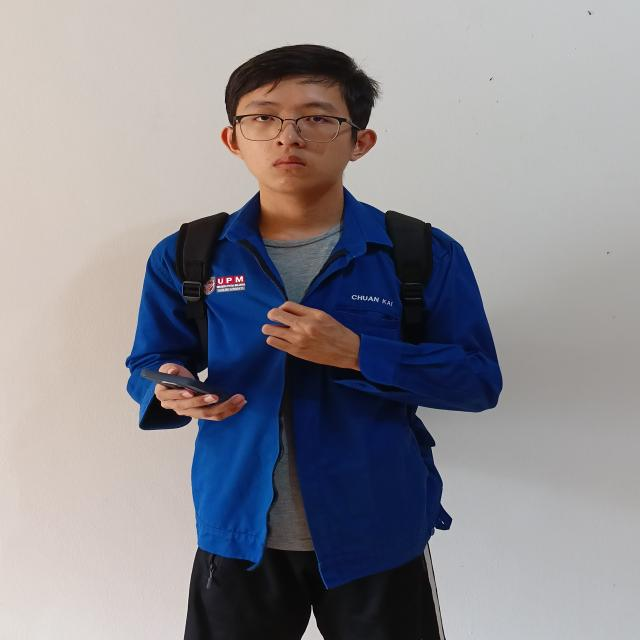person_with_labcoat: (127, 45, 502, 640)
